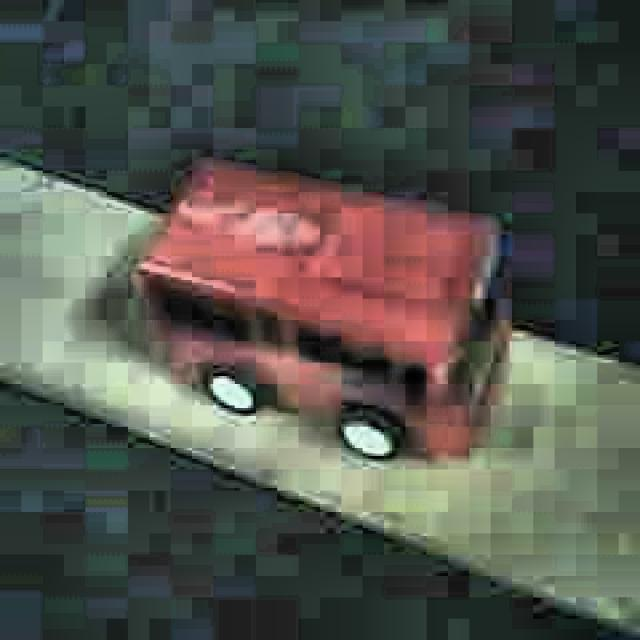bus: (131, 155, 512, 466)
